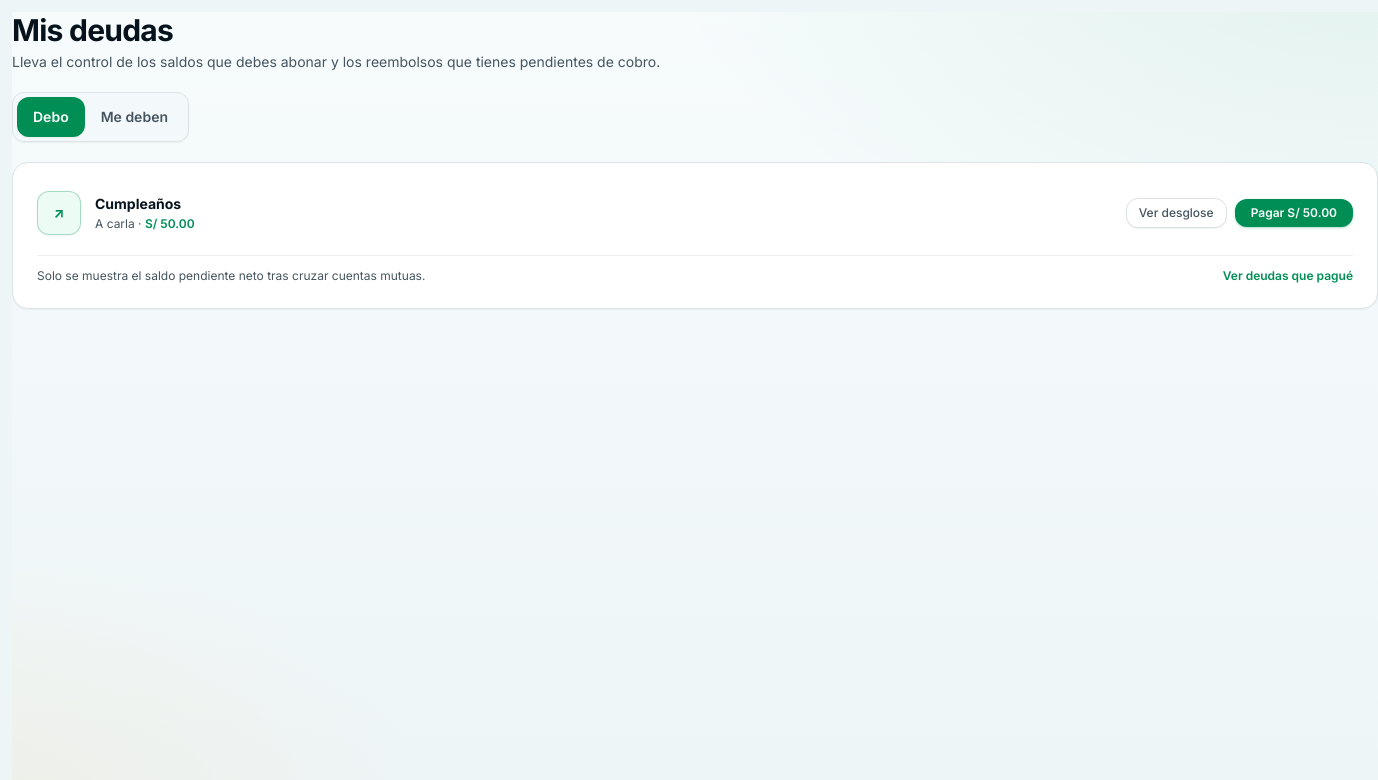
it: MisDeudas › cambia entre Debo y Me deben
Check: the text "Debo" is shown, box [33, 107, 69, 127]
Check: the text "A carla · S/ 50.00" is shown, box [95, 216, 195, 232]
Click the button "Me deben": (134, 117) [85, 97, 184, 137]
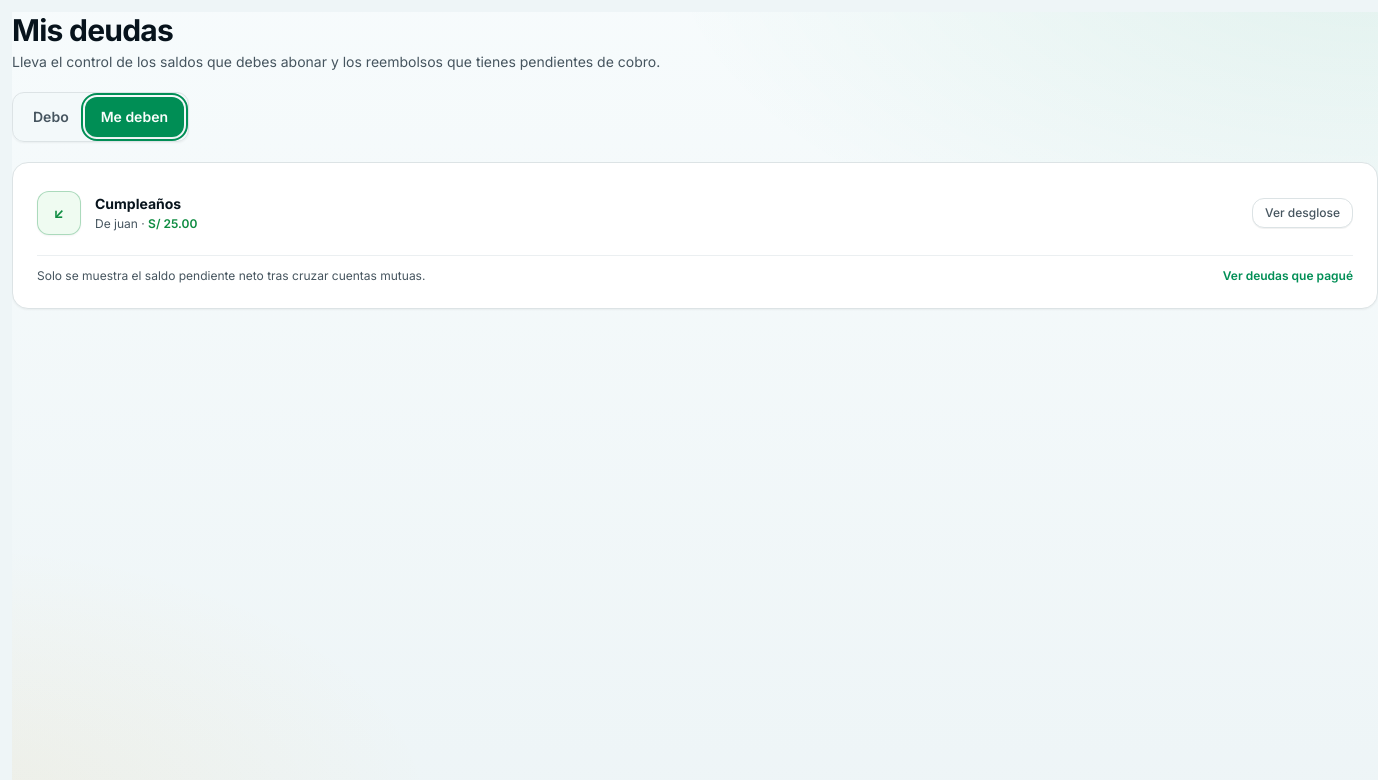
Check: the text "De juan · S/ 25.00" is shown, box [95, 216, 197, 232]
Check: the link "Pagar" is gone
